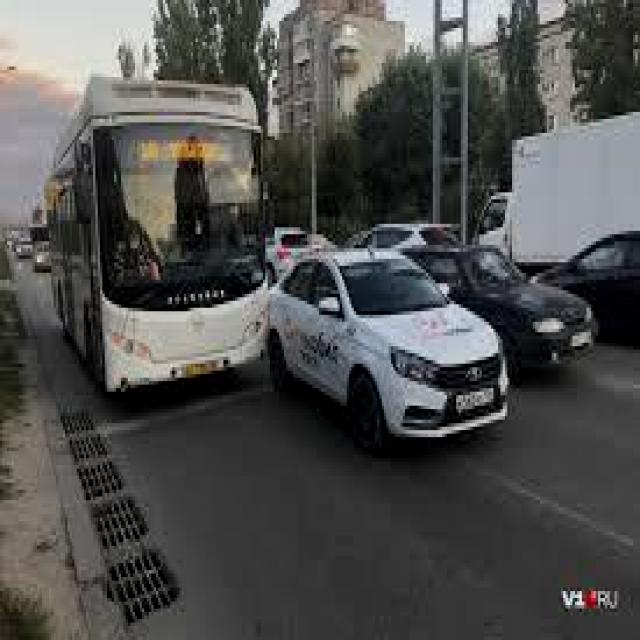bus: (32, 47, 292, 425)
